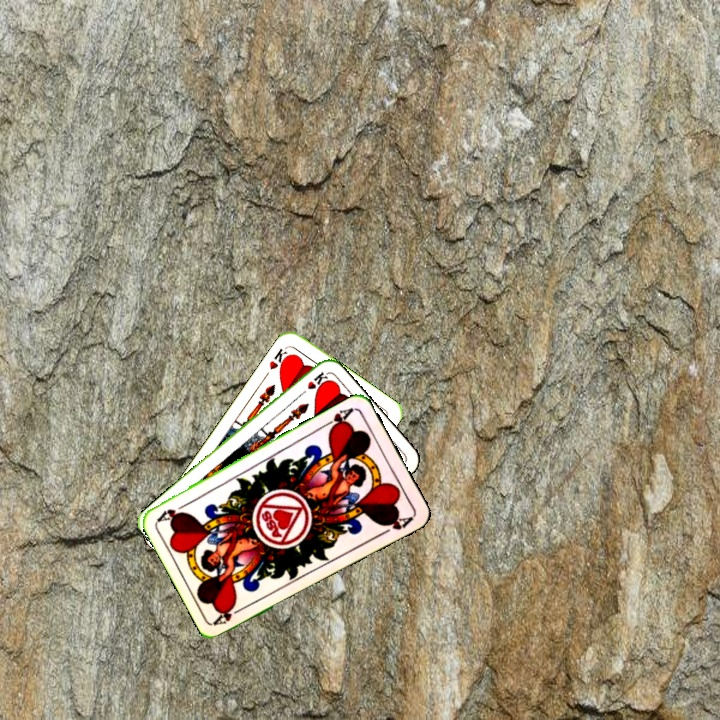HA: (319, 403, 356, 435), (211, 601, 249, 628)
HK: (294, 368, 329, 400), (265, 343, 293, 373)
